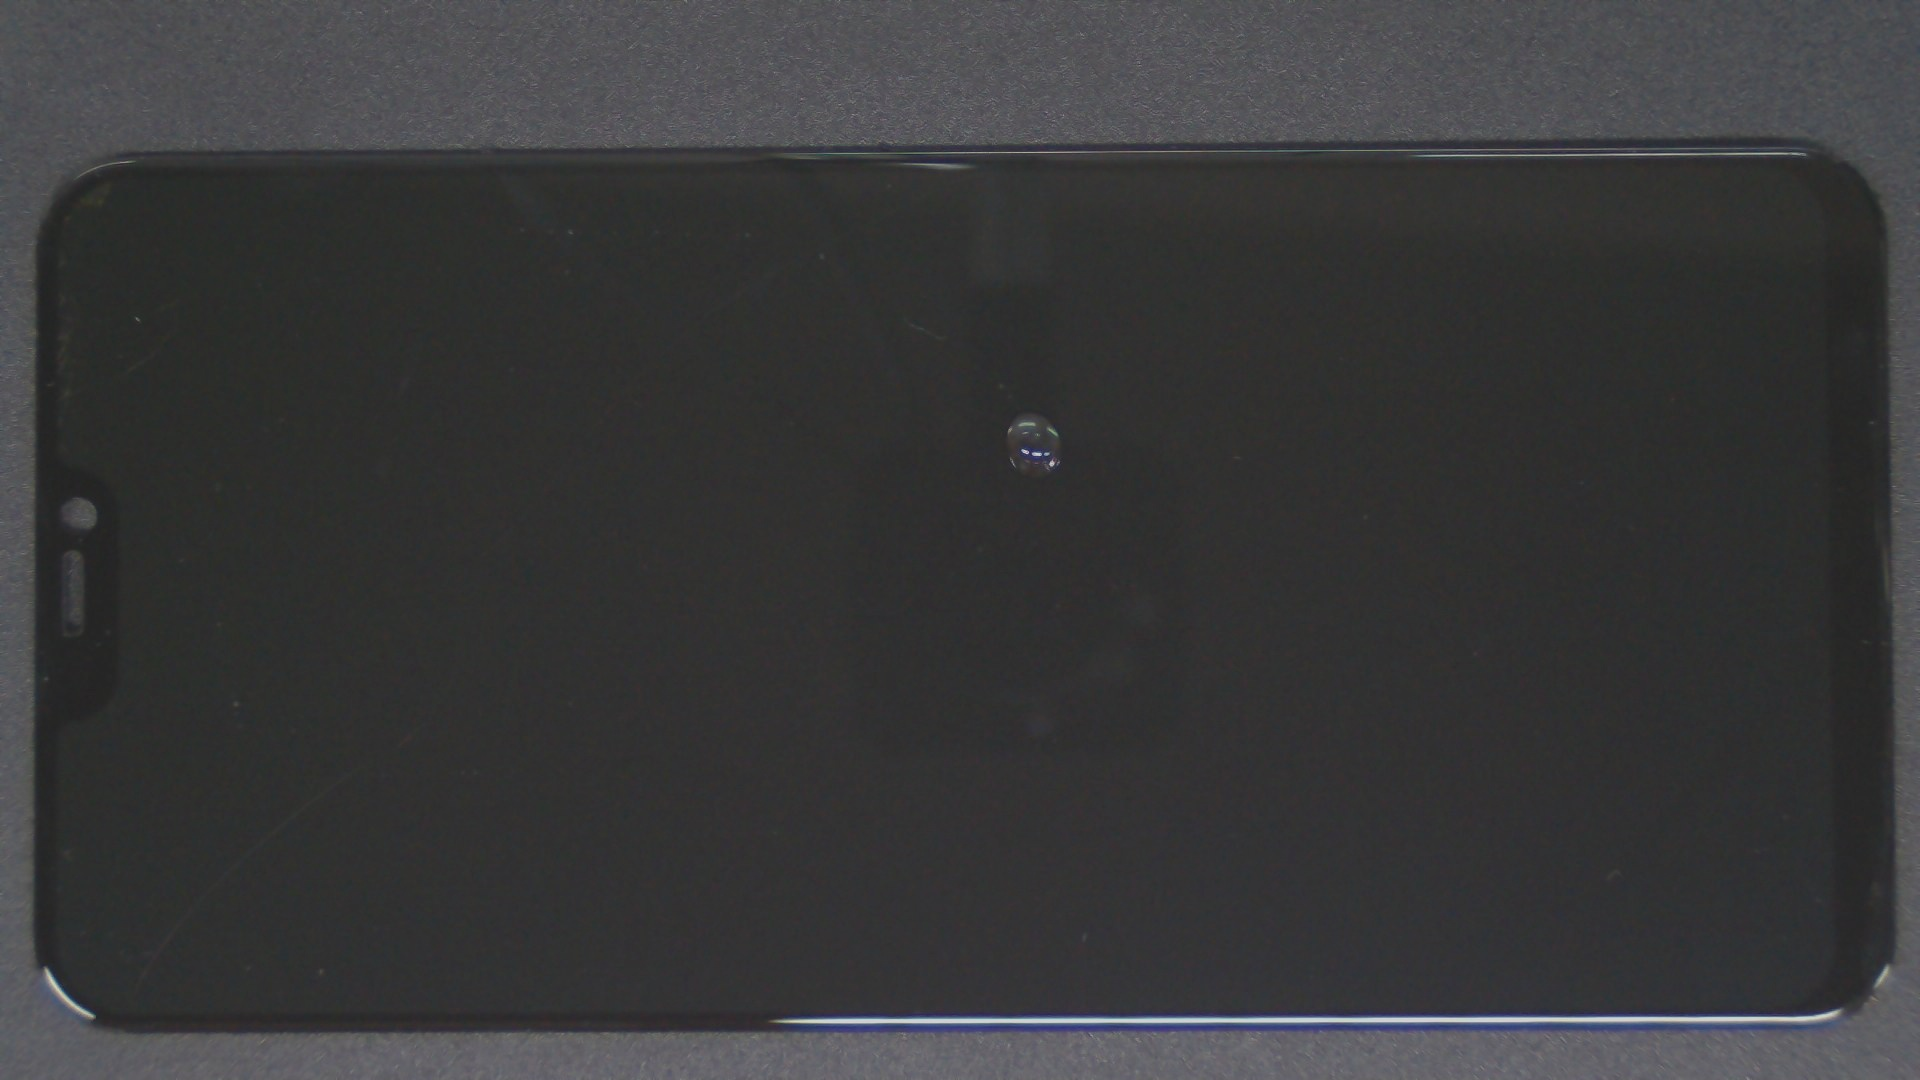oil: (514, 206, 1542, 618)
